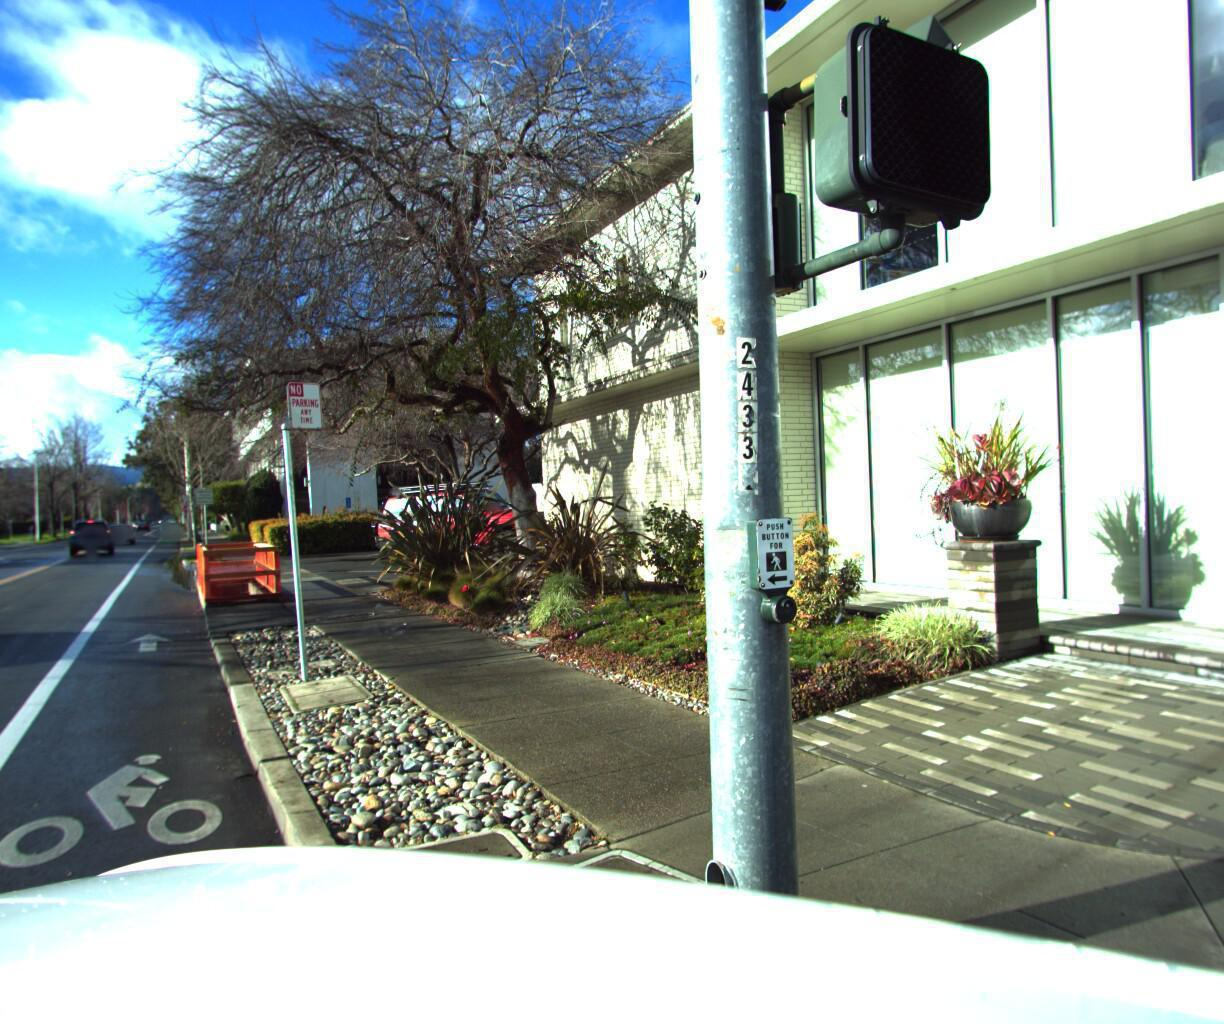car: (352, 469, 582, 562), (497, 467, 684, 551), (69, 514, 118, 553), (107, 513, 139, 540)
